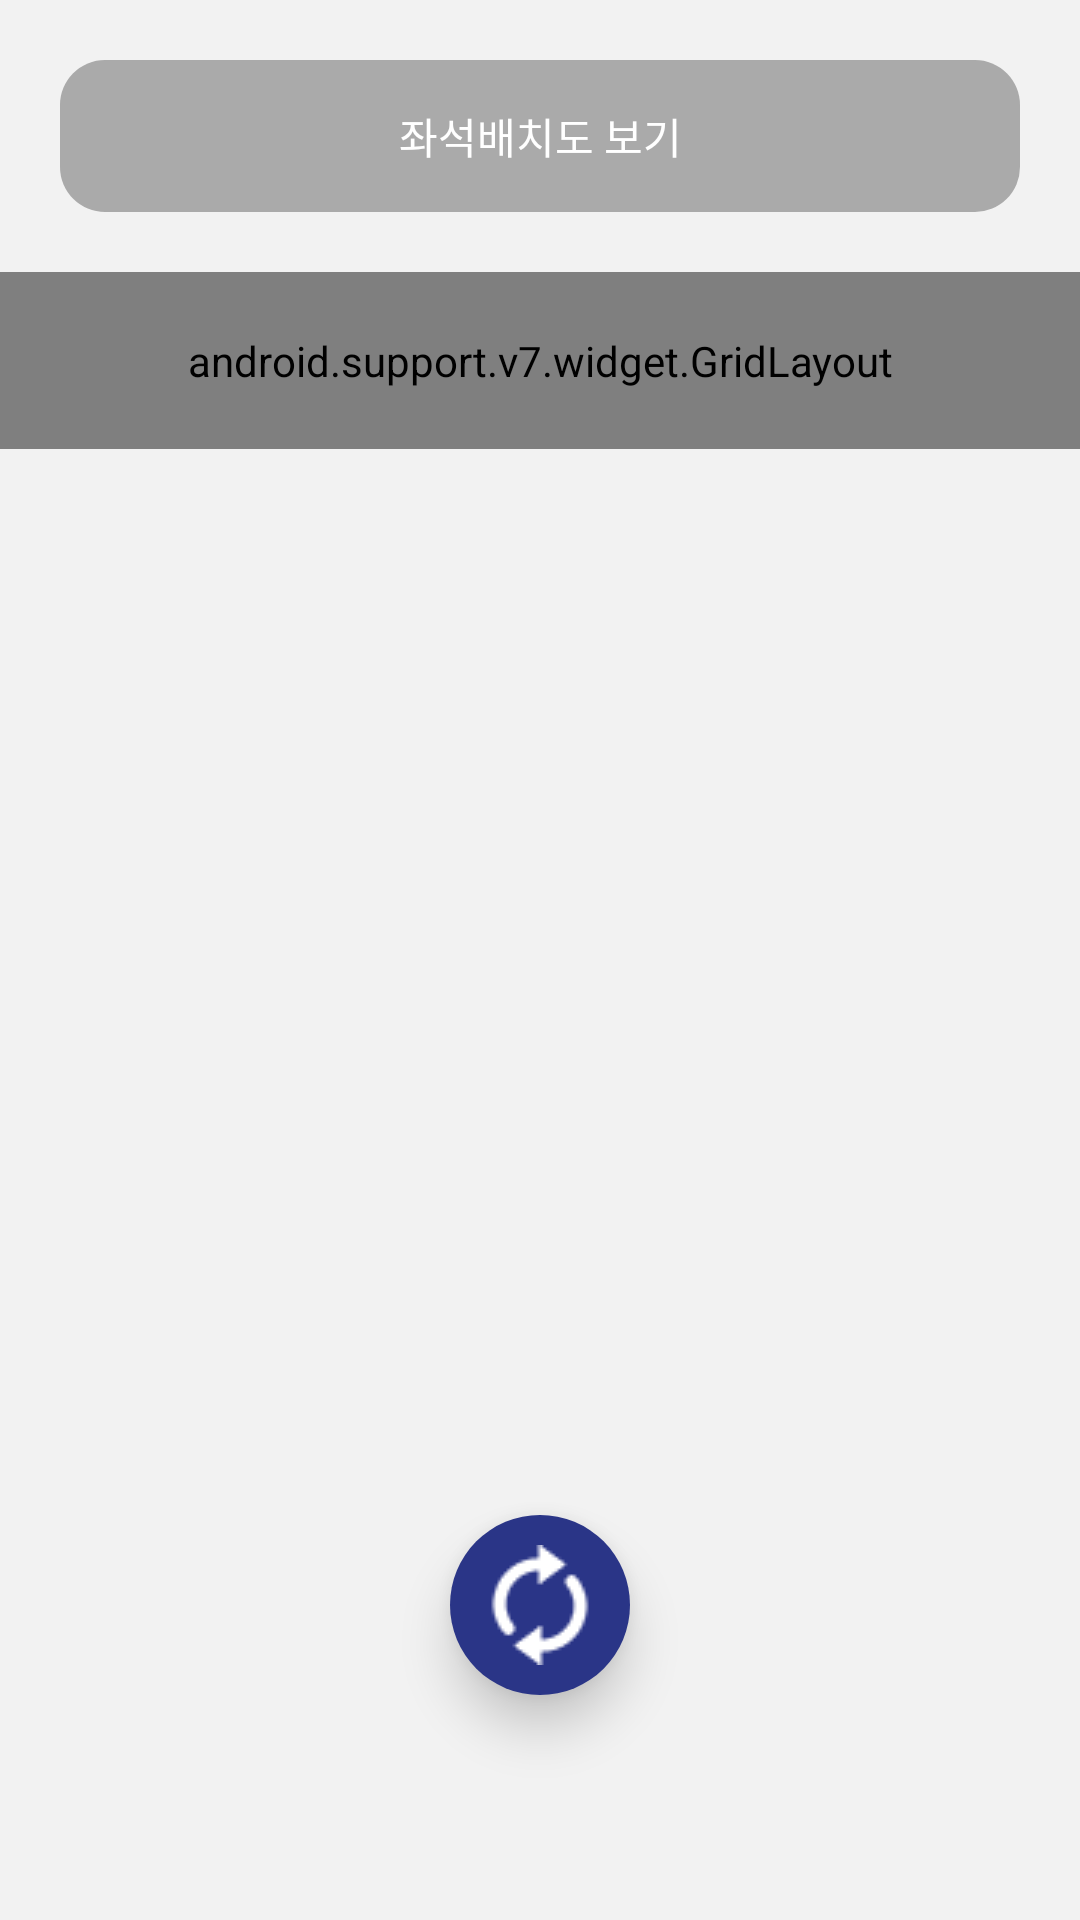

Named icons in this screenshot (1080 × 1920) and their centers, [x,y]:
refresh: [540,1605]
